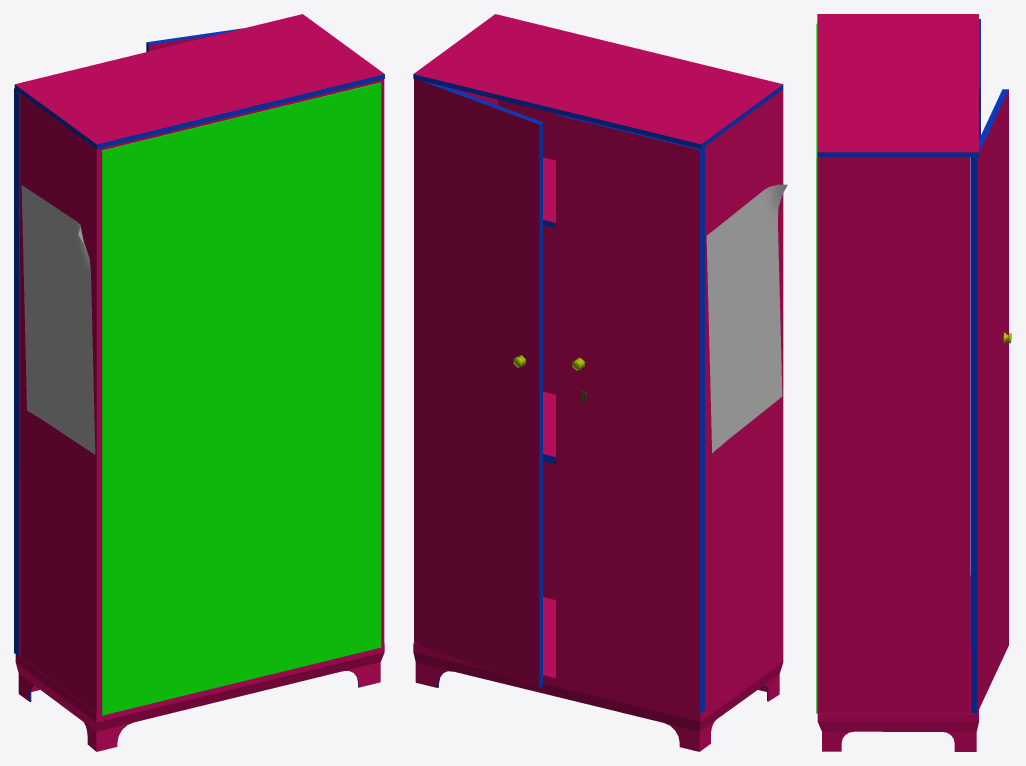
3 views of the same model, side by side, from view 1: azimuth 30°, elevation 25°; view 2: azimuth 150°, elevation 25°; view 3: azimuth 270°, elevation 25° (orthographic).
Parts seen in each view (by area): view 1: Плоскость.005, Плоскость.000_Плоскость.000, Плоскость.004; view 2: Плоскость.000_Плоскость.000, Плоскость.004; view 3: Плоскость.000_Плоскость.000, Плоскость.005.
Boxes of the visible parts, box(x1,y1,x2,y2) form: Плоскость.005: box(101, 82, 381, 715); Плоскость.000_Плоскость.000: box(14, 14, 384, 751); Плоскость.004: box(21, 185, 95, 454); Плоскость.000_Плоскость.000: box(413, 14, 783, 751); Плоскость.004: box(706, 184, 787, 453); Плоскость.000_Плоскость.000: box(817, 14, 1008, 751); Плоскость.005: box(816, 23, 817, 713).
Bounding box in the file's own units: 209 × 407 × 120.
